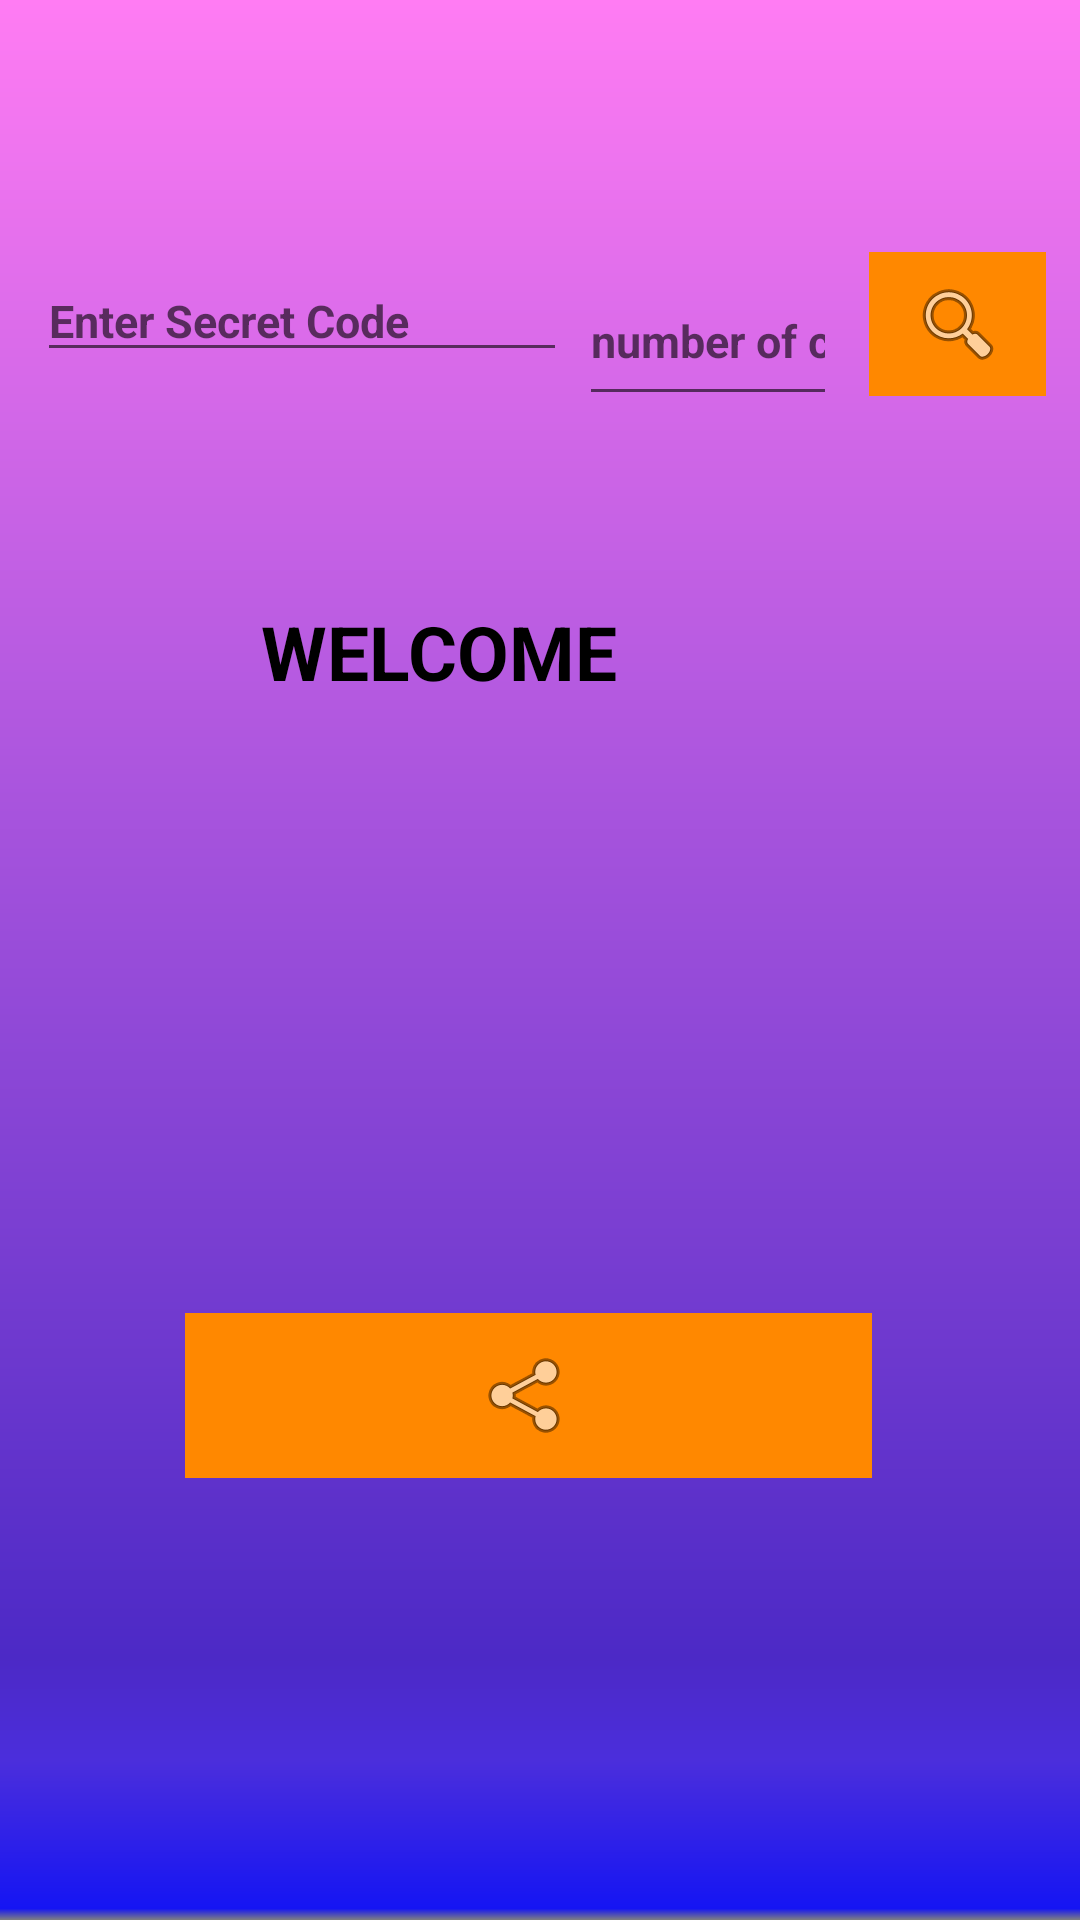

Named icons in this screenshot (1080x1920) and their bounding boxes, (x1, y1, x2, y2):
search: (869, 252, 1046, 396)
